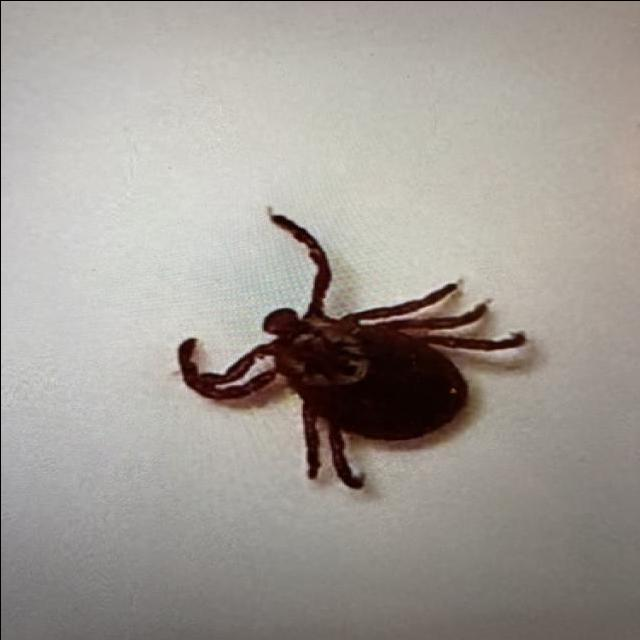Dermacentor Reticulatus-F: (176, 212, 527, 490)
